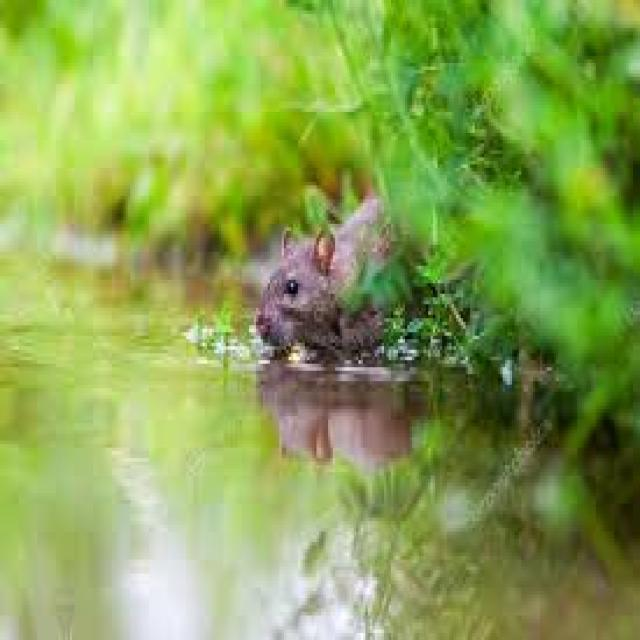Rat: (244, 154, 413, 381)
